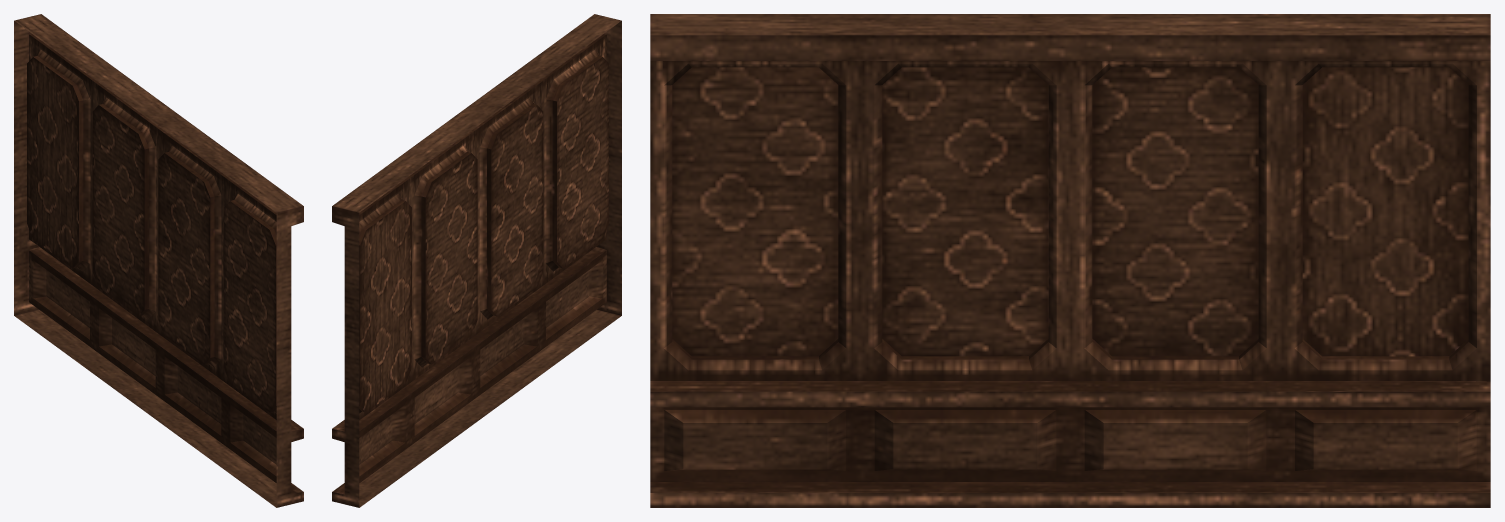
File: Trim_Wood_2m6.fbx
3 renders of one model, left to right at view 1: azimuth 30°, elevation 25°; view 2: azimuth 150°, elevation 25°; view 3: azimuth 270°, elevation 25°, orthographic. The views are drawn at different scales.
Visible parts, largest first — view 1: Trim_Wood_2m6; view 2: Trim_Wood_2m6; view 3: Trim_Wood_2m6.
Boxes of the visible parts, bbox=[...] form: Trim_Wood_2m6: bbox=[14, 14, 303, 507]; Trim_Wood_2m6: bbox=[332, 14, 621, 507]; Trim_Wood_2m6: bbox=[650, 14, 1490, 507].
Size of the model in its own units: 12 by 124 by 200.
Materials: 1 (1 with a texture image).
